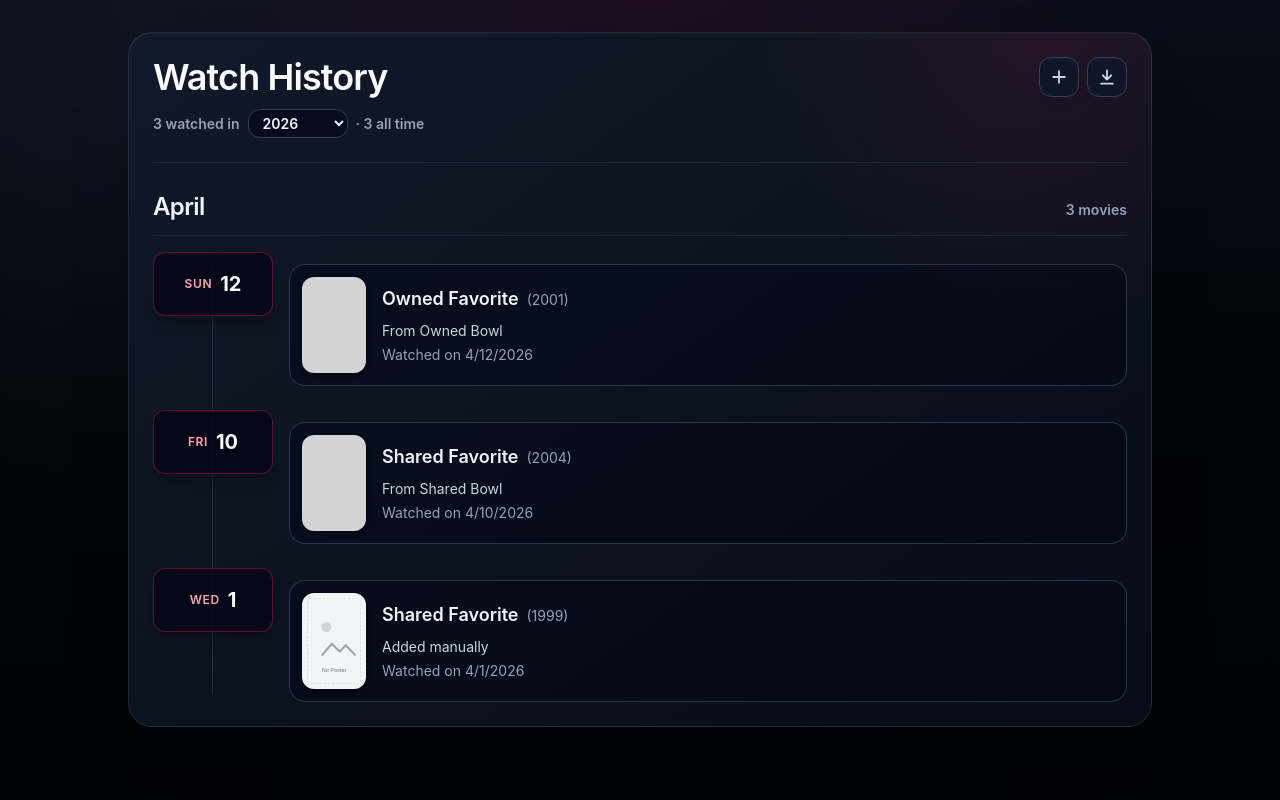
it: WatchListPage › downloads a Letterboxd CSV for exportable watched movies
Click the button named "export all history csv": [1107, 77] box [1087,57,1127,97]
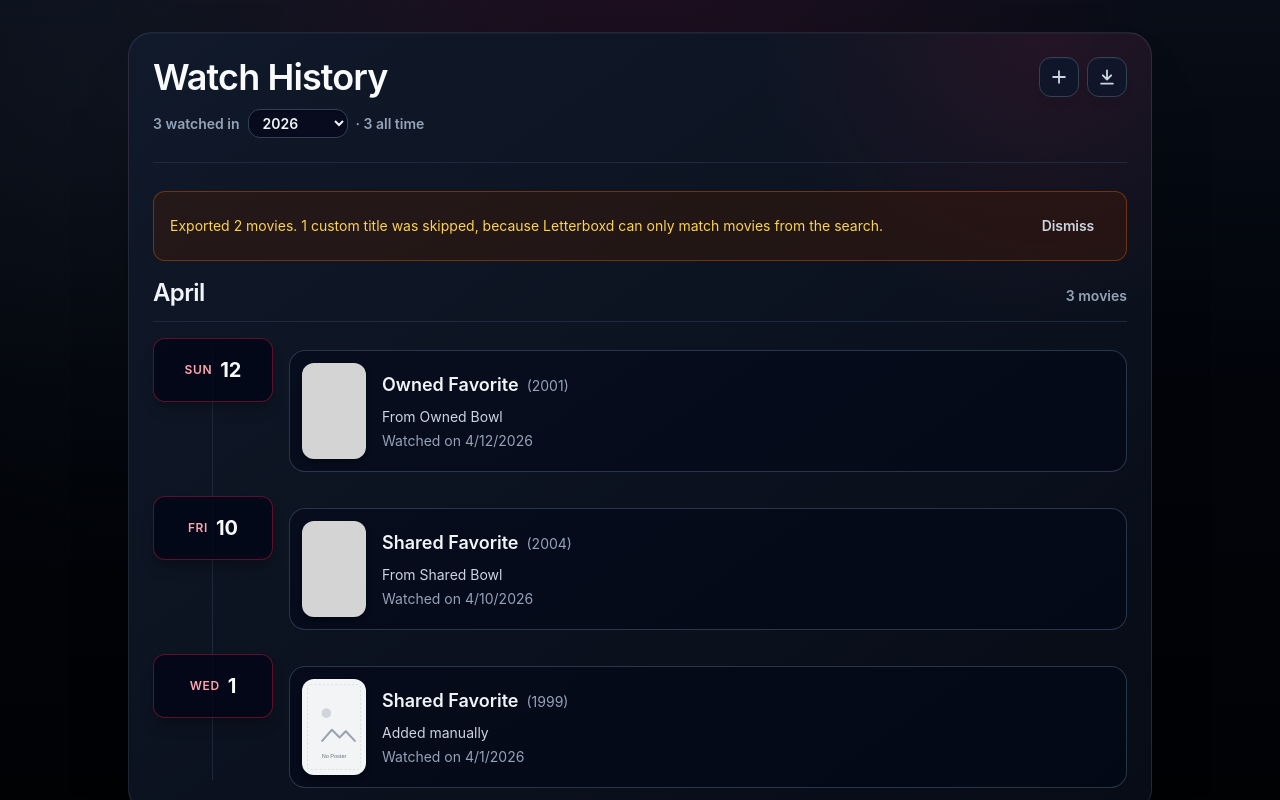
Expected: the message shows "Exported 2 movies. 1 custom title was skipped", [170,217,883,234]
